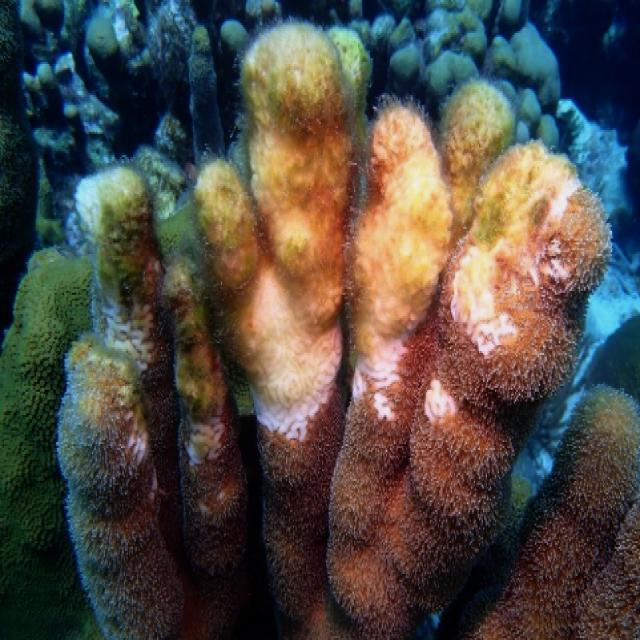Coral: (192, 20, 612, 640), (0, 202, 256, 640), (57, 163, 250, 640), (434, 380, 640, 640)
